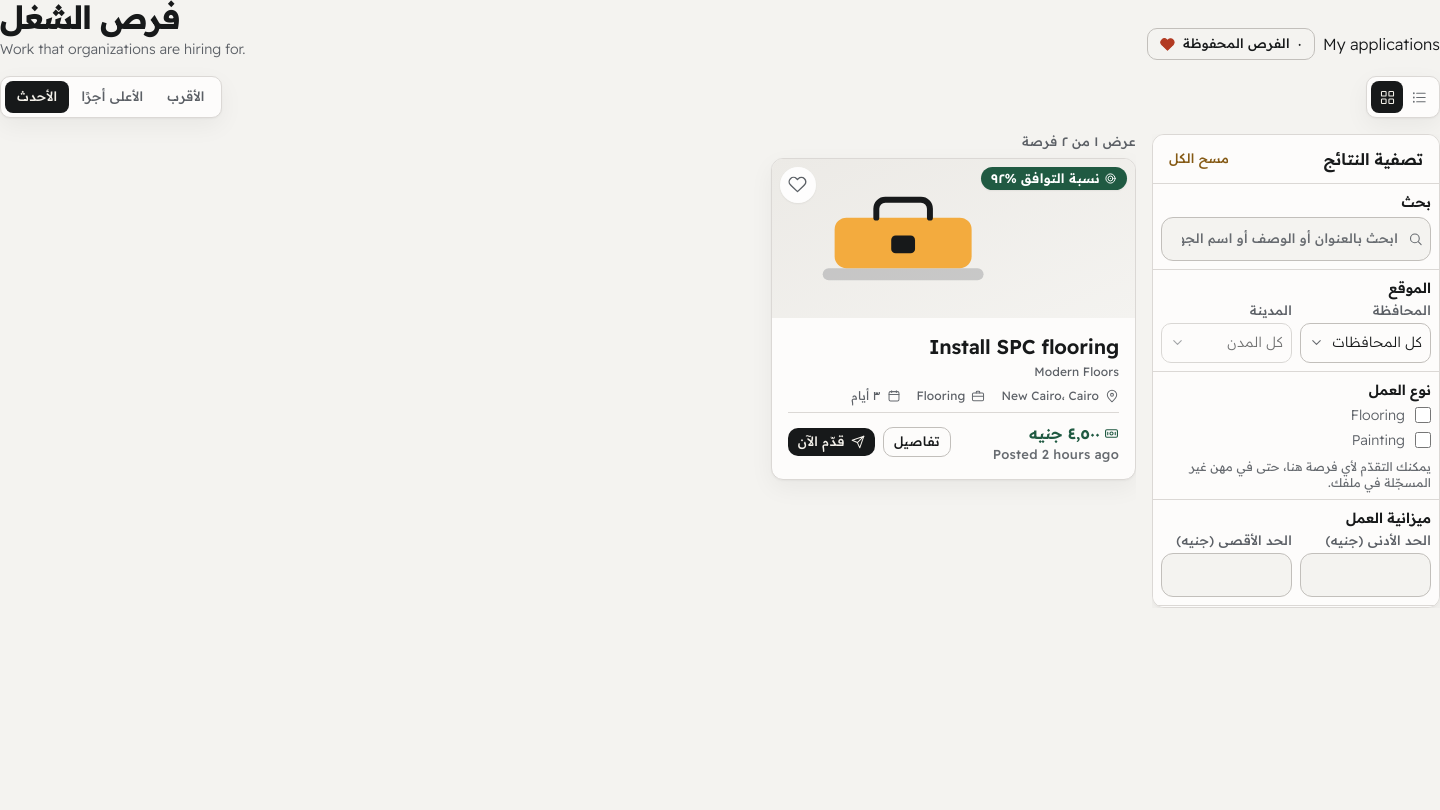
Test case: production Jobs board — one approved presentation, only real capabilities › Overall Match — the canonical database breakdown, drawn and never recomputed › is worded in Arabic with the approved level names
Click the button with test id "match-badge".
click(1054, 179)  # box left=981, top=167, right=1127, bottom=190
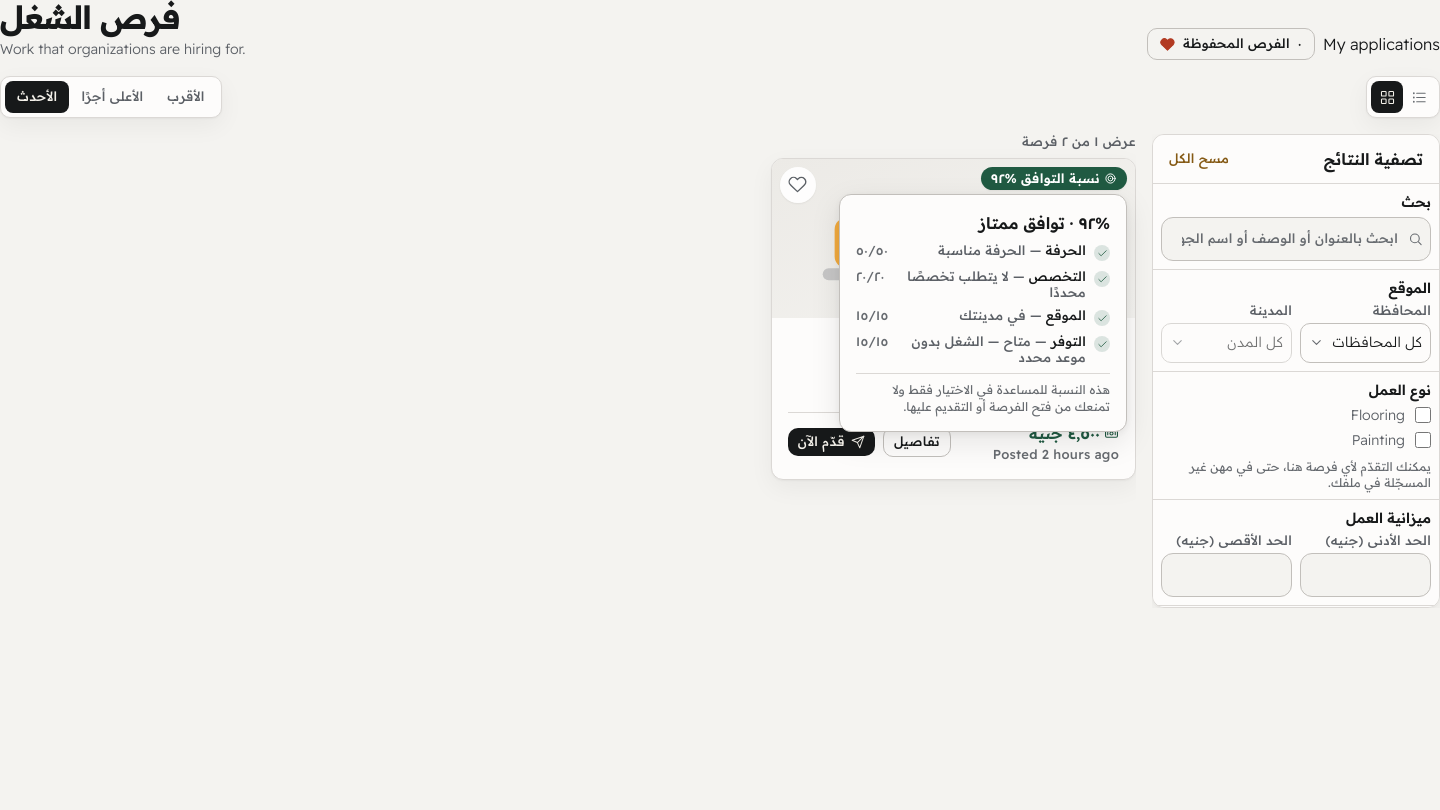
expect the dialog with test id "match-breakdown" shows "توافق ممتاز": met, box left=979, top=213, right=1065, bottom=233
